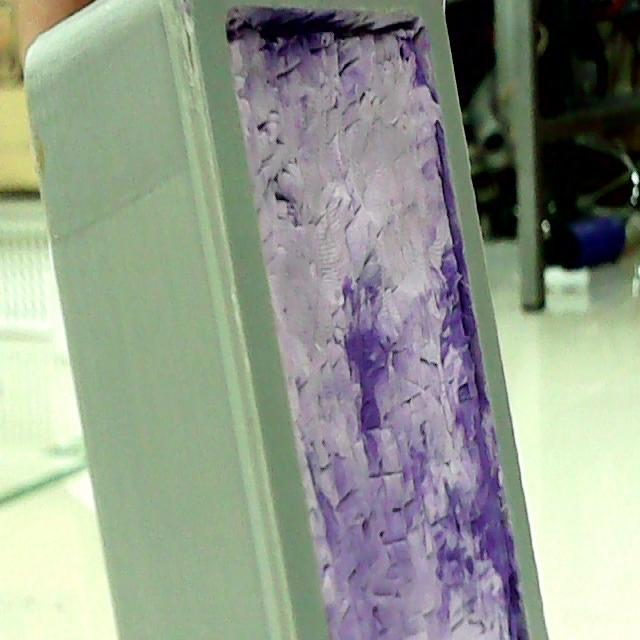block: (23, 1, 562, 638)
